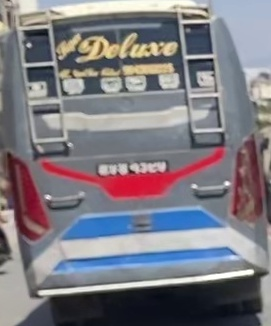license_plate: (96, 160, 168, 177)
